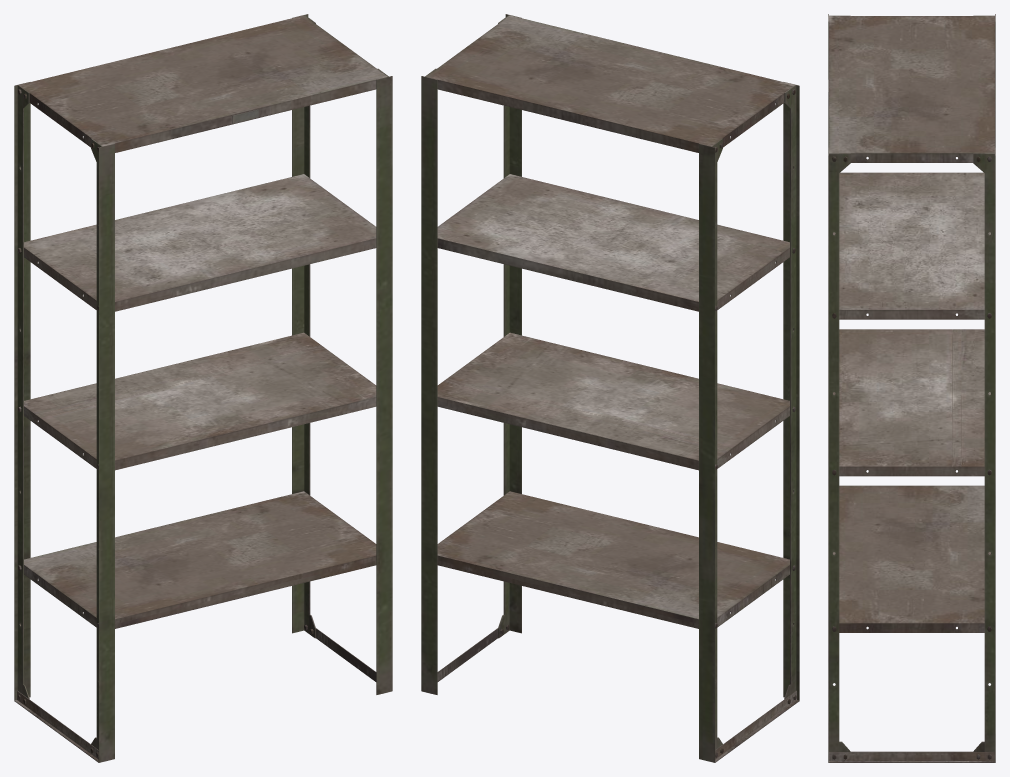
Rendered from rak-siku.glb.
The picture shows the model from 3 angles, left to right: view 1: azimuth 30°, elevation 25°; view 2: azimuth 150°, elevation 25°; view 3: azimuth 270°, elevation 25°; orthographic projection.
Parts seen in each view (by area): view 1: worn_metal_rack; view 2: worn_metal_rack; view 3: worn_metal_rack.
Boxes of the visible parts, x1,y1,x2,y2 form: worn_metal_rack: (14, 14, 392, 762); worn_metal_rack: (421, 14, 799, 762); worn_metal_rack: (828, 14, 995, 762).
Size of the model in its own units: 0.8 by 1.6 by 0.4.
1 material, 1 textured.
